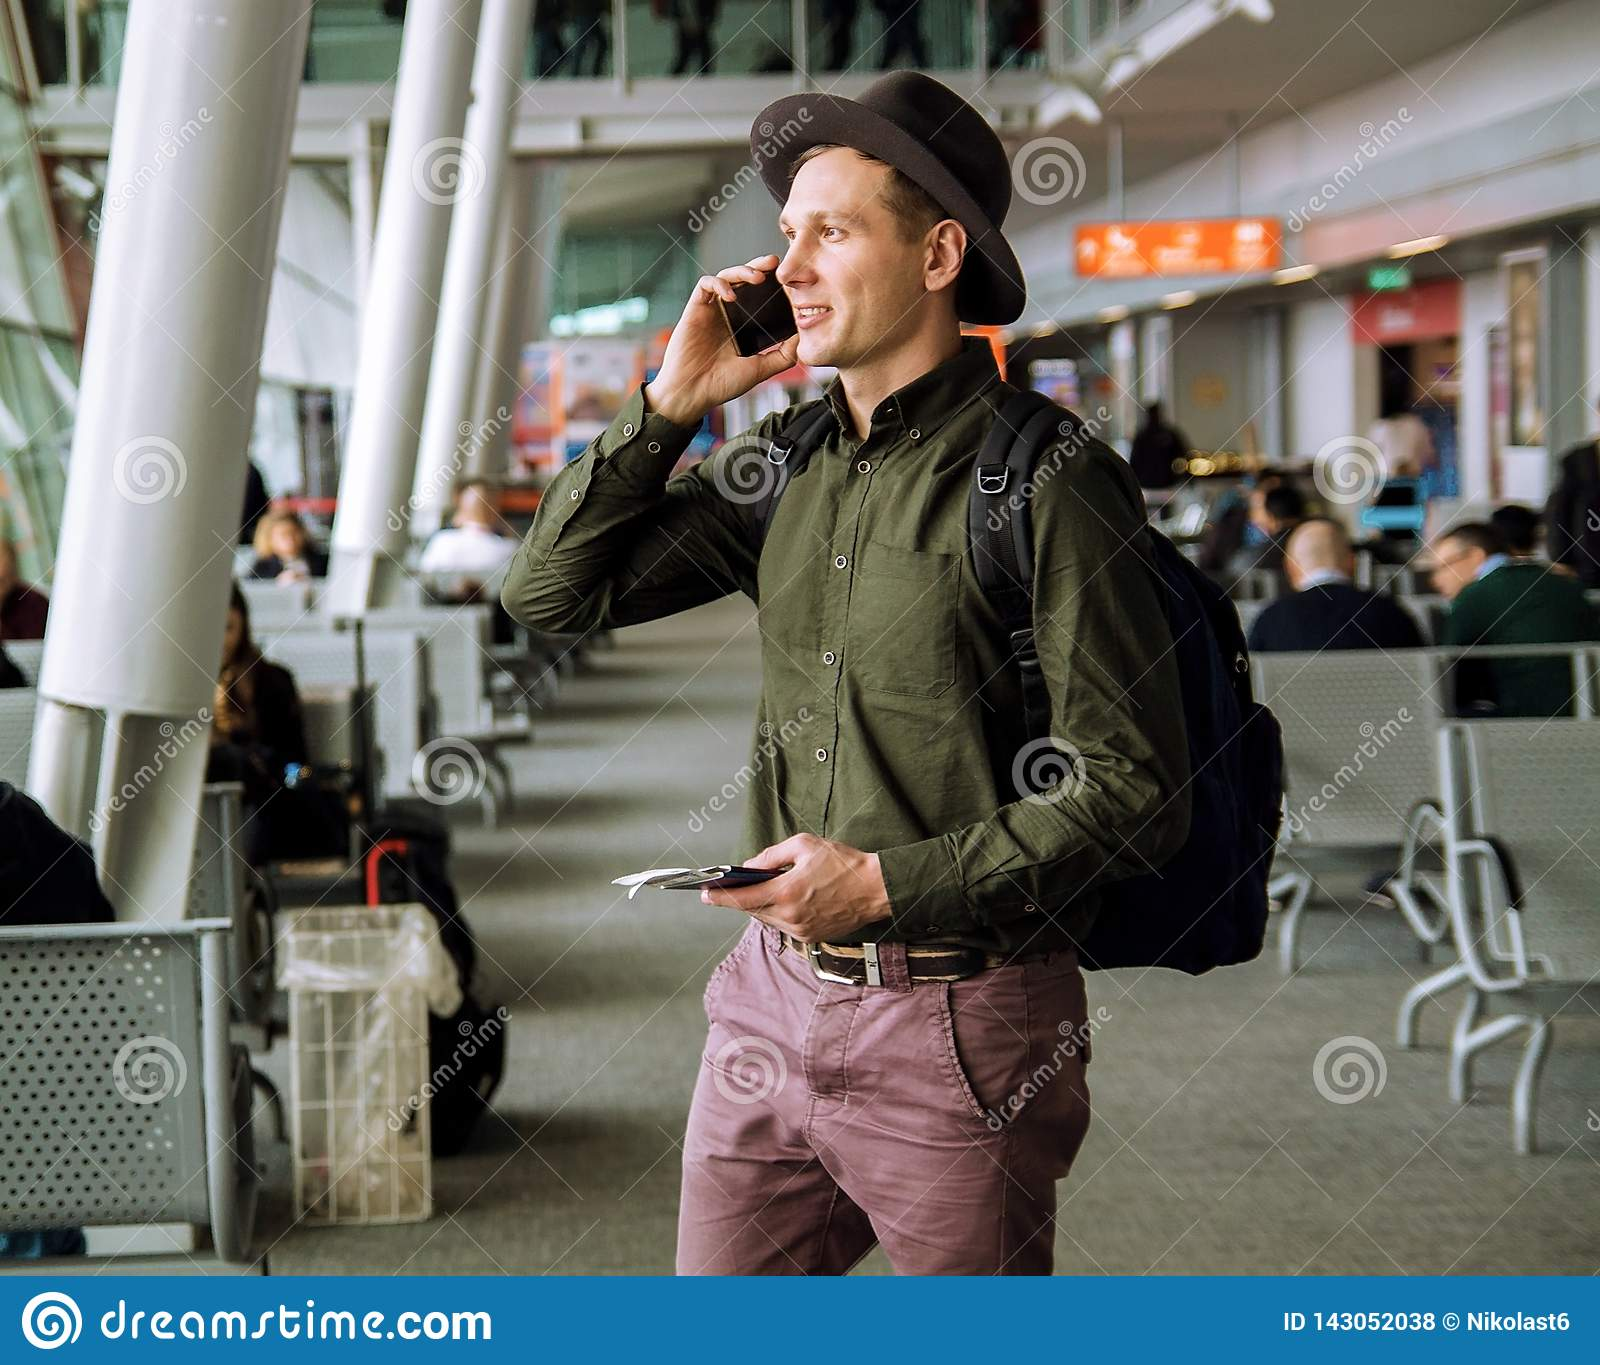phone: (721, 265, 799, 355)
talk: (661, 194, 879, 397)
